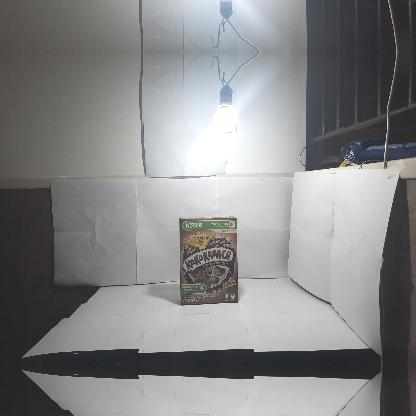Koko-Krunch: (179, 216, 239, 304)
